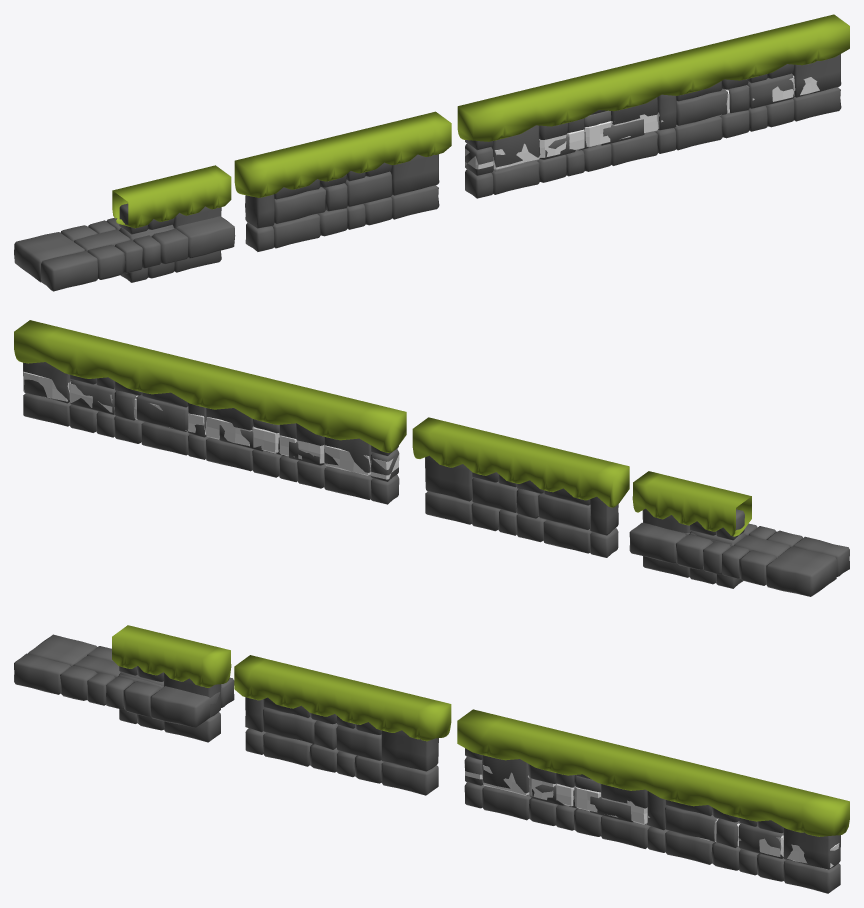
File: merdivenBasamagi.fbx
The picture shows the model from 3 angles, top to bottom: view 1: azimuth 30°, elevation 25°; view 2: azimuth 150°, elevation 25°; view 3: azimuth 330°, elevation 25°; orthographic projection.
Parts seen in each view (by area): view 1: tasDuvar, grassGround, tasDuvar.001, tasDuvar.003, grassGround.001, grassGround.002, tasDuvar.002; view 2: tasDuvar, grassGround, tasDuvar.001, tasDuvar.003, grassGround.001, grassGround.002, tasDuvar.002, Cube.018, Cube.021, Cube.019; view 3: tasDuvar, grassGround, tasDuvar.001, grassGround.001, tasDuvar.003, grassGround.002, tasDuvar.002.
Boxes of the visible parts, left/top/right/bottom form: tasDuvar: left=465, top=54, right=841, bottom=198; grassGround: left=457, top=14, right=849, bottom=141; tasDuvar.001: left=245, top=154, right=439, bottom=251; tasDuvar.003: left=14, top=216, right=235, bottom=291; grassGround.001: left=234, top=111, right=451, bottom=197; grassGround.002: left=112, top=165, right=231, bottom=228; tasDuvar.002: left=119, top=203, right=221, bottom=282; tasDuvar: left=23, top=362, right=399, bottom=504; grassGround: left=14, top=320, right=406, bottom=452; tasDuvar.001: left=425, top=455, right=618, bottom=557; tasDuvar.003: left=629, top=522, right=849, bottom=596; grassGround.001: left=412, top=417, right=629, bottom=507; grassGround.002: left=632, top=471, right=751, bottom=536; tasDuvar.002: left=642, top=508, right=744, bottom=588; Cube.018: left=206, top=417, right=252, bottom=446; Cube.021: left=324, top=445, right=370, bottom=475; Cube.019: left=252, top=426, right=279, bottom=453; tasDuvar: left=464, top=748, right=840, bottom=893; grassGround: left=457, top=709, right=849, bottom=836; tasDuvar.001: left=245, top=697, right=438, bottom=795; grassGround.001: left=234, top=655, right=451, bottom=741; tasDuvar.003: left=14, top=634, right=234, bottom=727; grassGround.002: left=112, top=625, right=231, bottom=687; tasDuvar.002: left=119, top=666, right=221, bottom=742.
Size of the model in its own units: 7447 by 750 by 641.
